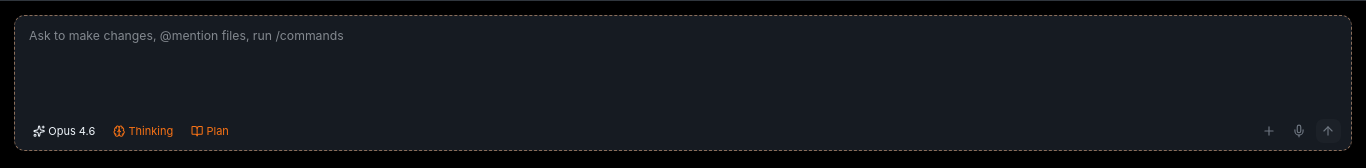
Test case: Composer › send button is enabled when text is entered
Type "hello" into the text box at point(683, 66), box x1=29 y1=26 x2=1337 y2=106
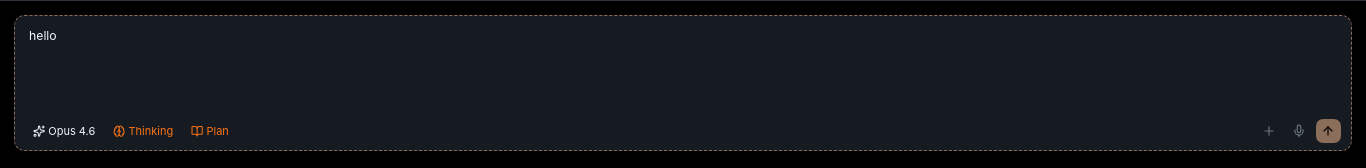
Result: the button titled "Send message" is enabled at x1=1316 y1=118 x2=1340 y2=143
